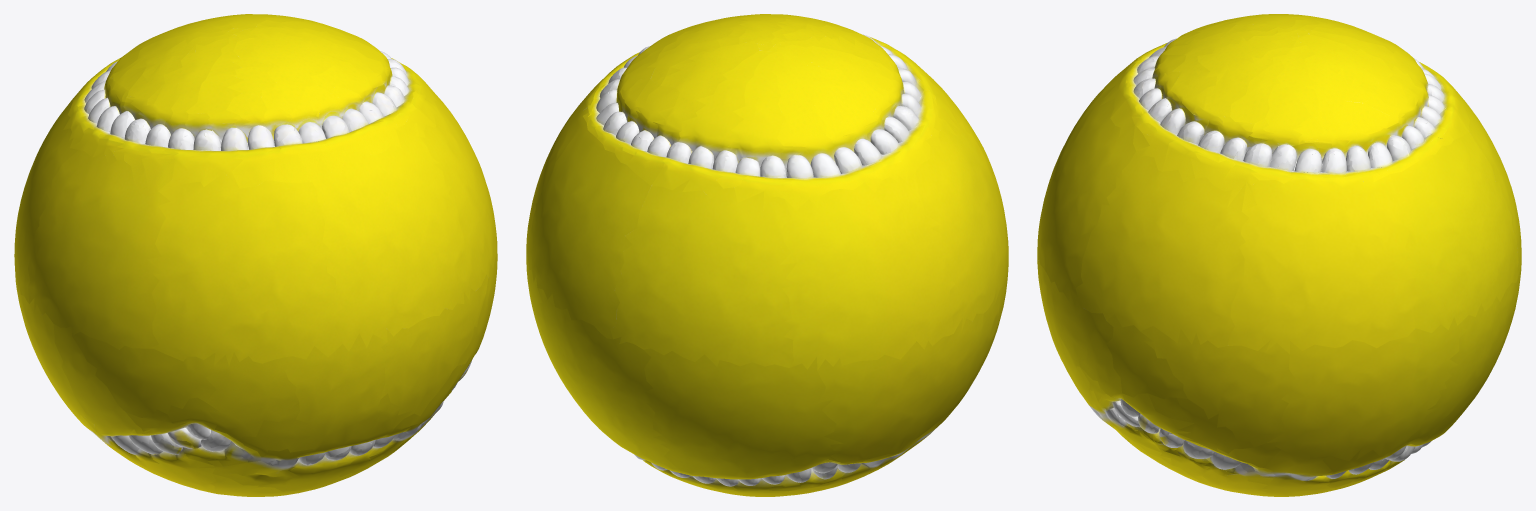
Rendered from tennis-ball.glb.
3 renders of one model, left to right at view 1: azimuth 30°, elevation 25°; view 2: azimuth 150°, elevation 25°; view 3: azimuth 270°, elevation 25°, orthographic.
Bounding box in the file's own units: 1.9 × 1.9 × 1.9.
1 material, 1 textured.
